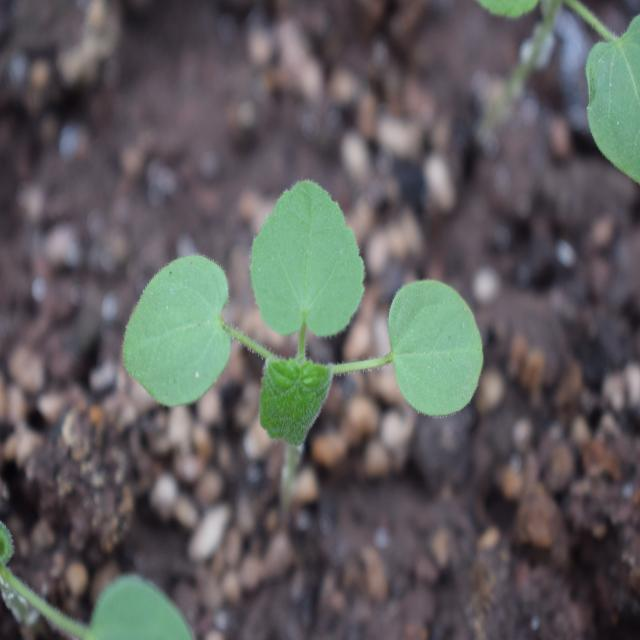abutilon theophrasti: (116, 170, 494, 490)
